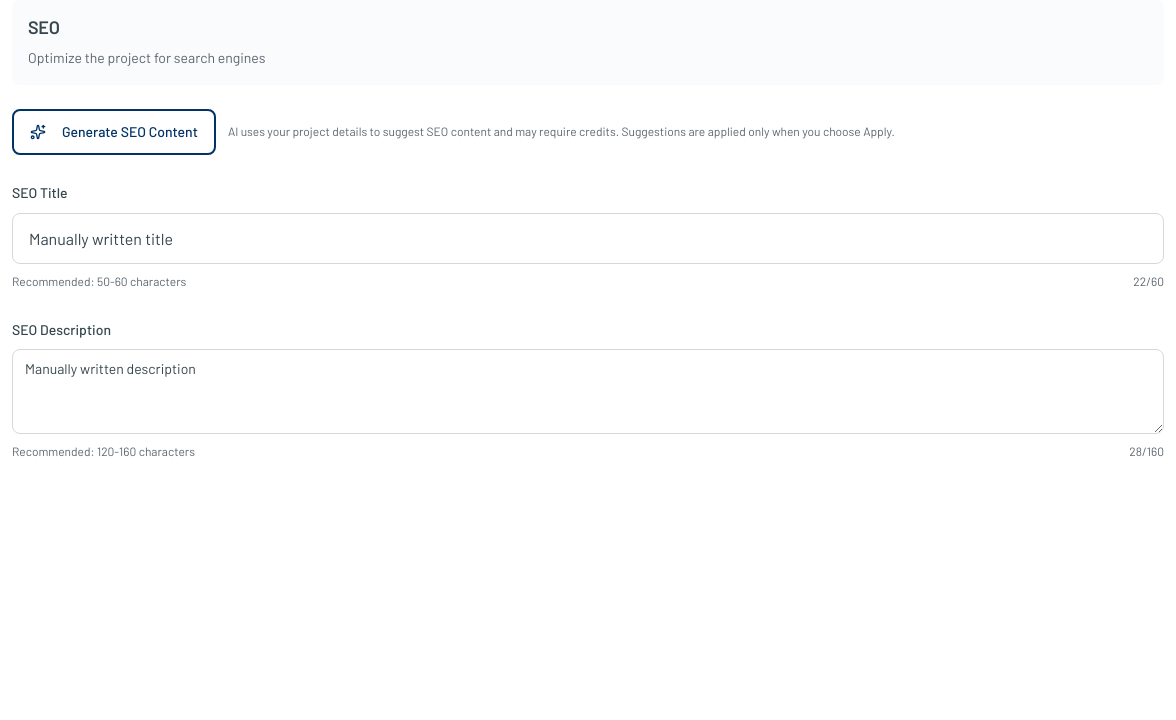
it: reviewing AI SEO suggestions › keeps manually entered fields when the gateway rejects
Click the button "Generate SEO Content". click: (114, 132)
box: [12,109,216,155]
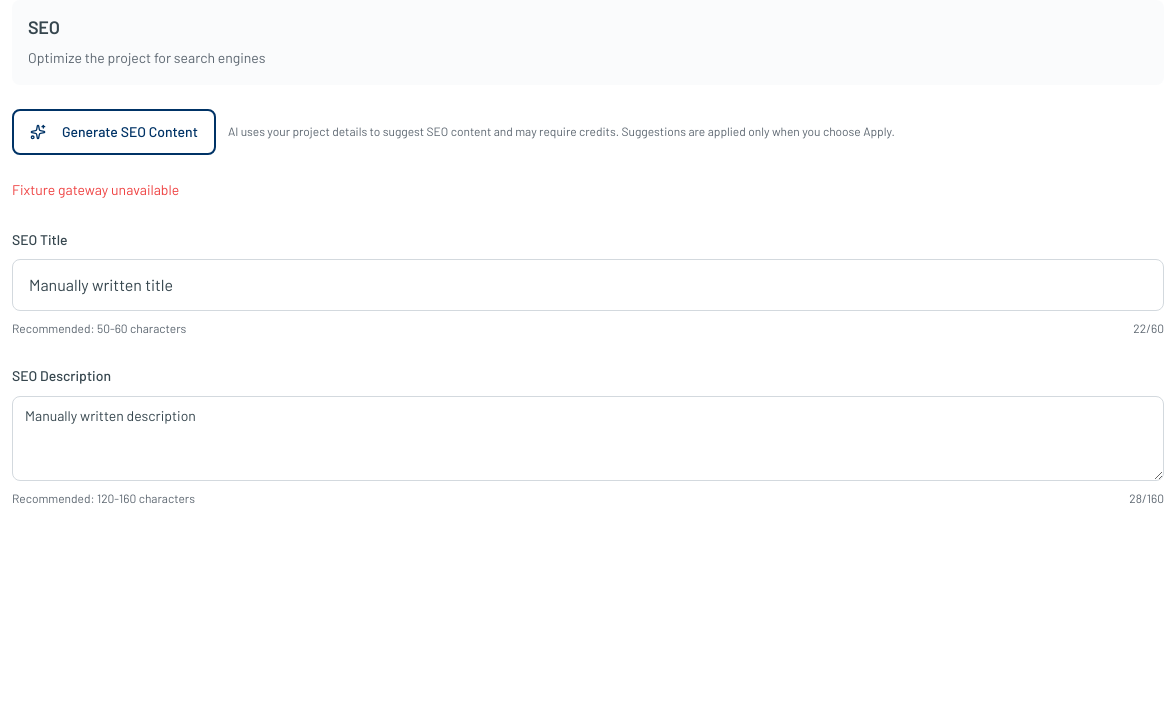
Expected: the field labelled "SEO Title" holds "Manually written title", [12,259,1164,311]
Expected: the message reads "Fixture gateway unavailable", [12,181,179,198]
